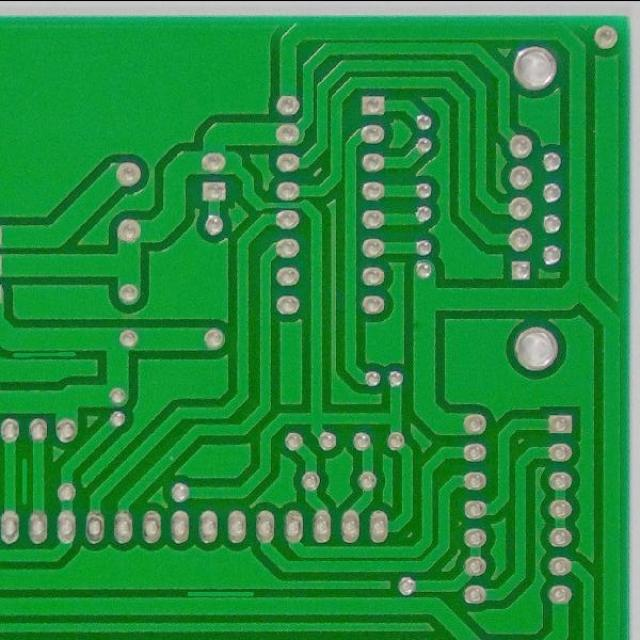spurious_copper: (182, 581, 262, 605), (9, 342, 82, 366), (16, 453, 35, 507)
